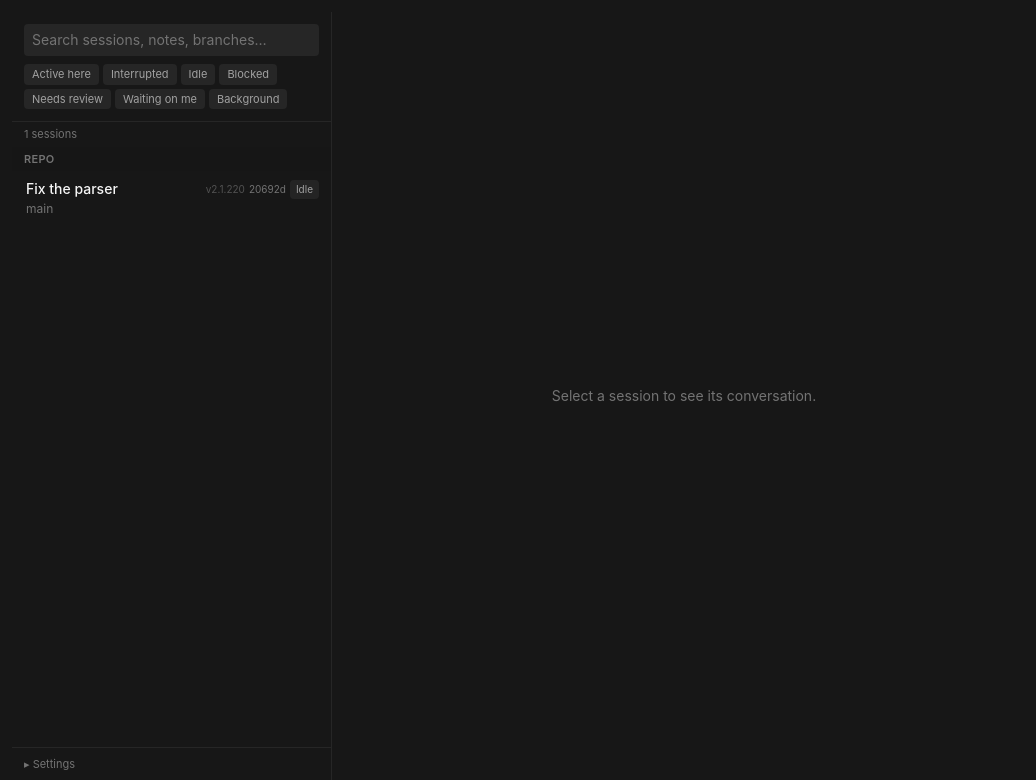
it: App › switches to the Git tab on demand
Click the text "Fix the parser" at (72, 189), box [26,179,118,199]
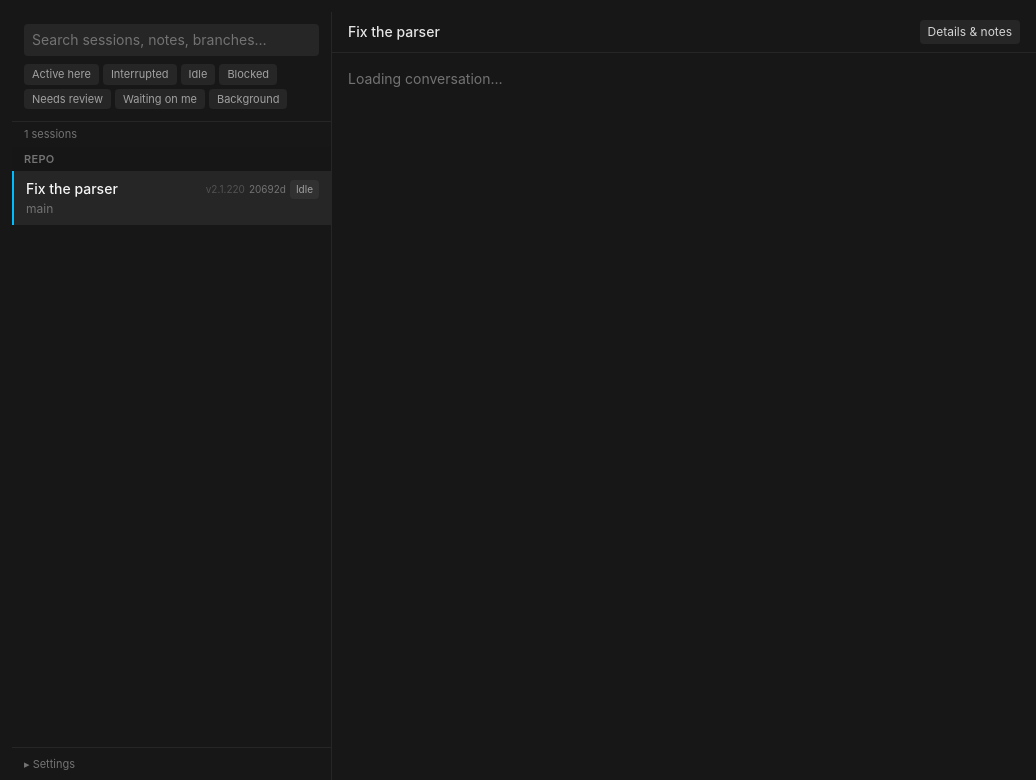
Click the button "Details & notes" at (970, 32), box [920,20,1020,44]
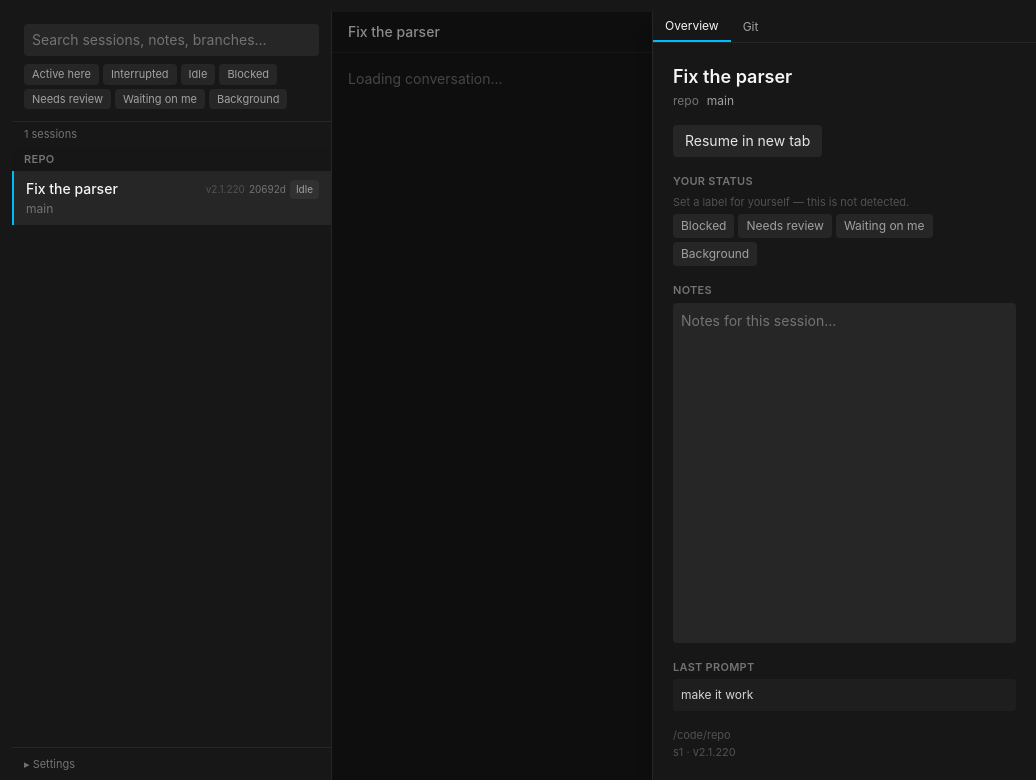
Click the button "Git" at (750, 27), box [731,12,770,42]
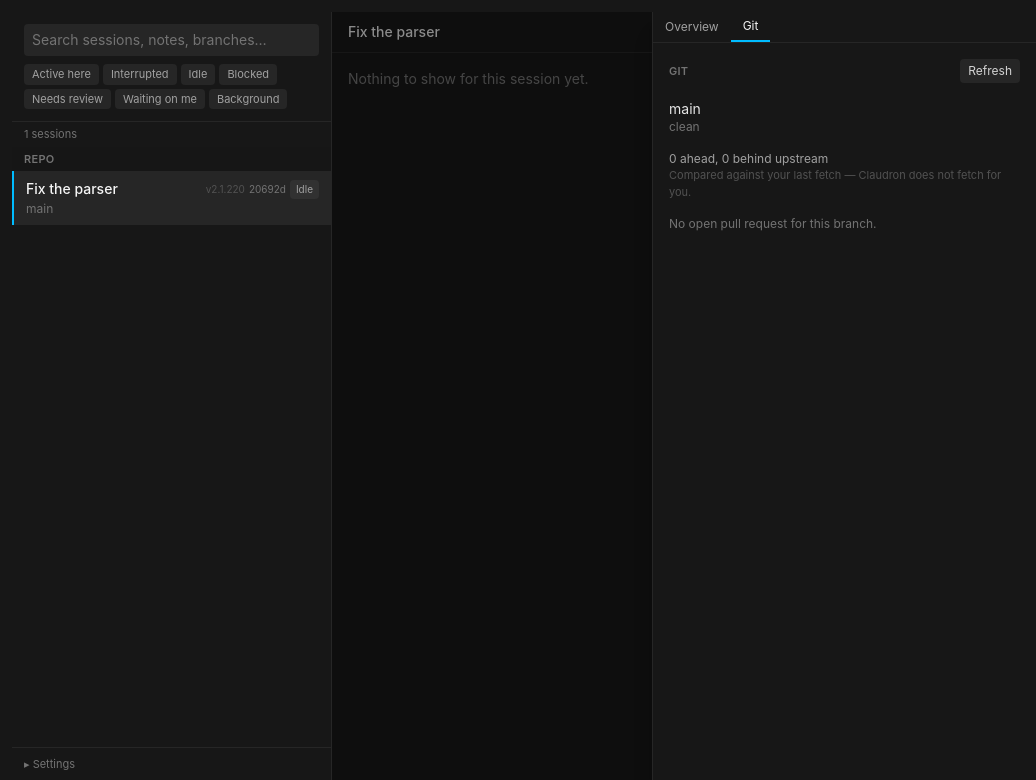
Expected: the button "Refresh" is shown, [960,59,1020,83]
